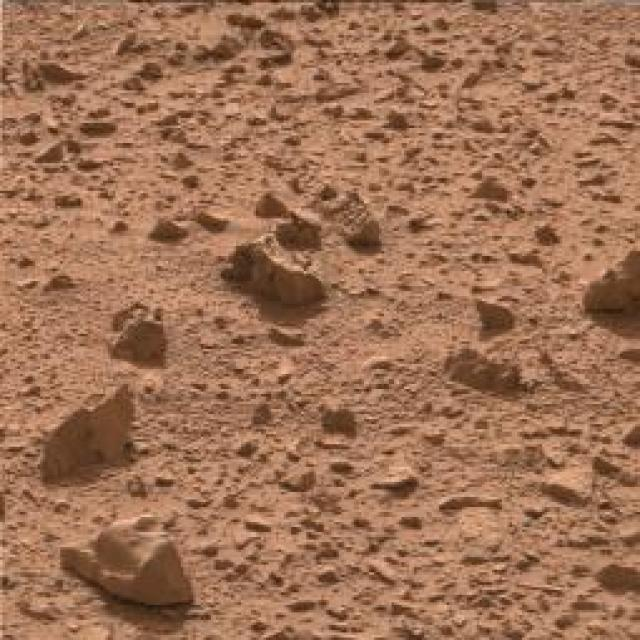rock: (59, 518, 194, 608), (36, 384, 144, 476), (219, 234, 325, 306), (307, 178, 384, 245), (442, 339, 520, 395), (580, 246, 640, 311), (106, 300, 170, 360), (272, 211, 327, 249), (468, 294, 518, 335), (141, 214, 188, 243), (252, 191, 292, 219), (191, 205, 230, 230)
